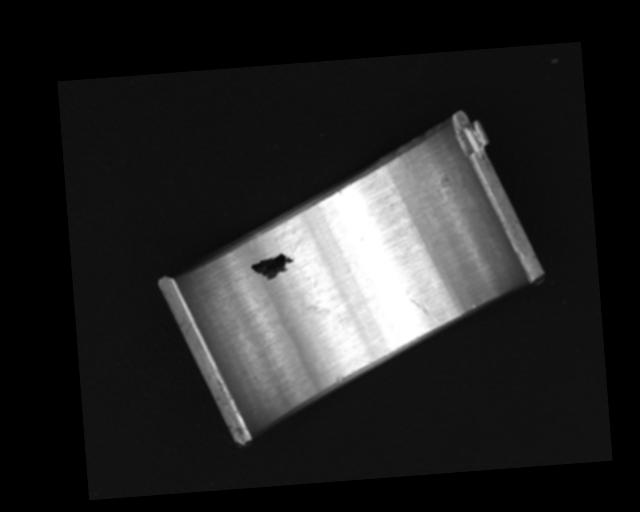blot: (273, 284, 332, 319), (248, 250, 296, 282)
bruise: (334, 374, 342, 384), (337, 188, 344, 196)
nick: (409, 296, 440, 330)
